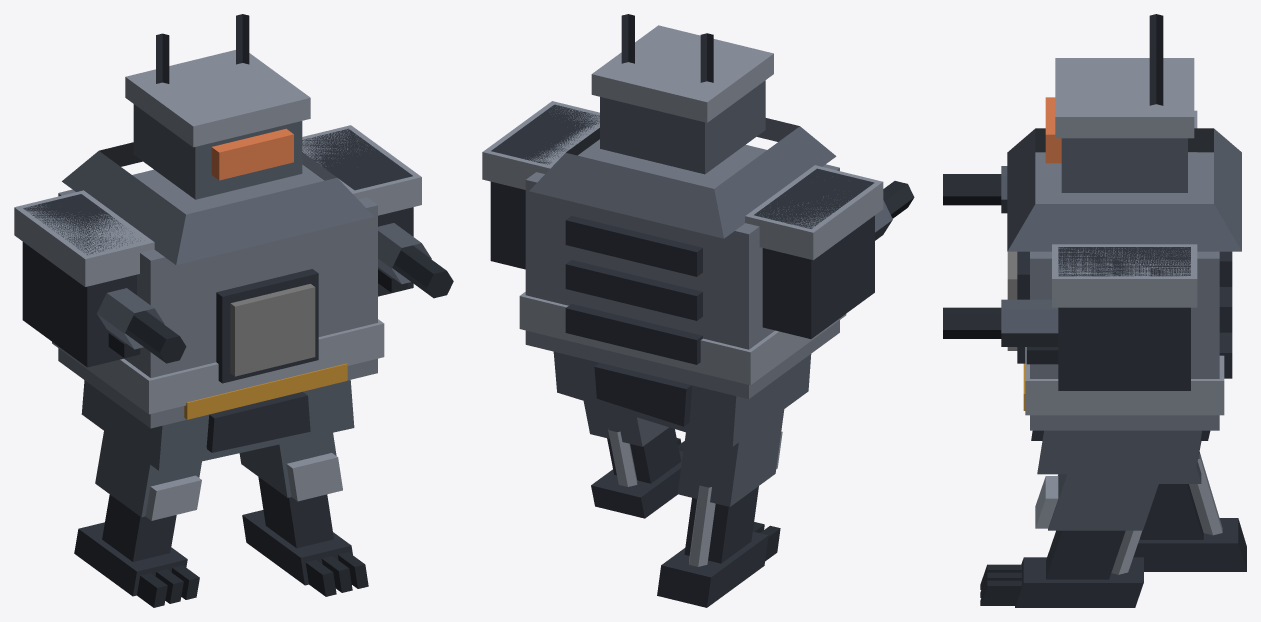
The model's file is heavy-walk-1.obj.
3 renders of one model, left to right at view 1: azimuth 30°, elevation 25°; view 2: azimuth 150°, elevation 25°; view 3: azimuth 270°, elevation 25°, orthographic. The views are drawn at different scales.
Visible parts, largest first — view 1: heavy-walk-1; view 2: heavy-walk-1; view 3: heavy-walk-1.
Boxes of the visible parts, x1=… form: heavy-walk-1: x1=14, y1=14, x2=453, y2=607; heavy-walk-1: x1=482, y1=14, x2=914, y2=607; heavy-walk-1: x1=943, y1=14, x2=1246, y2=607.
Size of the model in its own units: 2.52 by 3.85 by 1.92.
